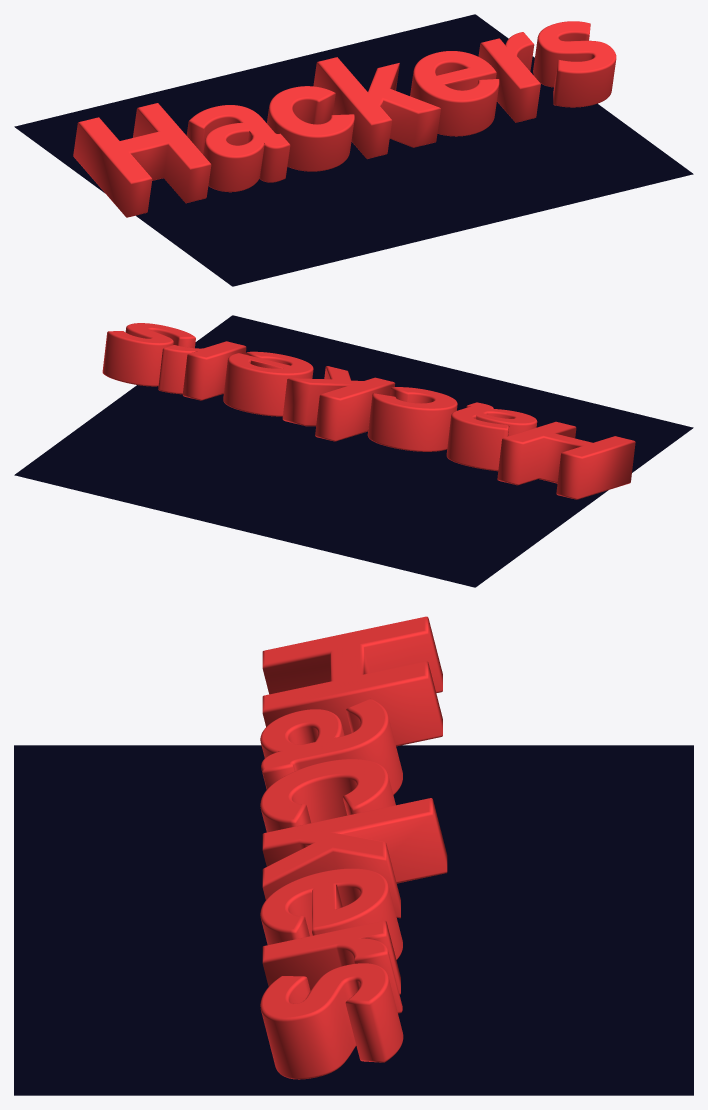
File: hackers10.obj
The picture shows the model from 3 angles, top to bottom: view 1: azimuth 30°, elevation 25°; view 2: azimuth 150°, elevation 25°; view 3: azimuth 270°, elevation 25°; orthographic projection. The views are drawn at different scales.
Parts seen in each view (by area): view 1: Plane, Hackers; view 2: Plane, Hackers; view 3: Plane, Hackers.
Part boxes in pixels (x1,y1,x2,y2): Plane: (14, 14, 693, 286); Hackers: (73, 21, 616, 217); Plane: (14, 315, 693, 587); Hackers: (102, 323, 635, 499); Plane: (14, 745, 693, 1095); Hackers: (260, 616, 447, 1079).
Bounding box in the file's own units: 4.23 × 0.6001 × 3.24.
